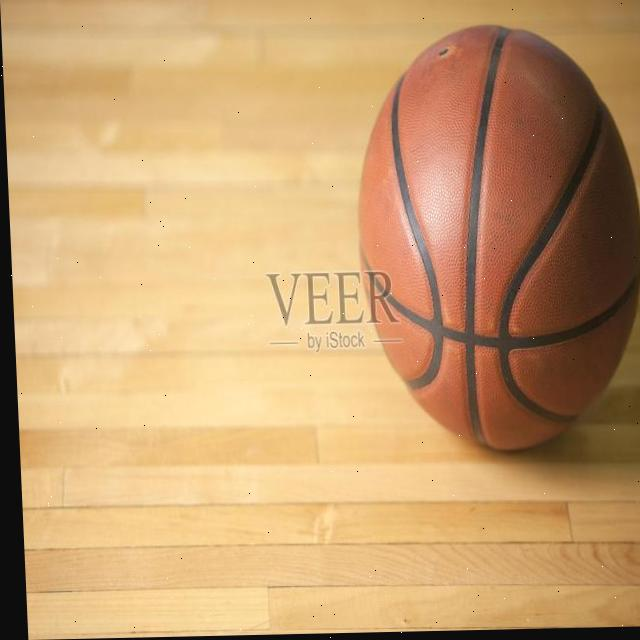Basketball: (344, 20, 640, 453)
